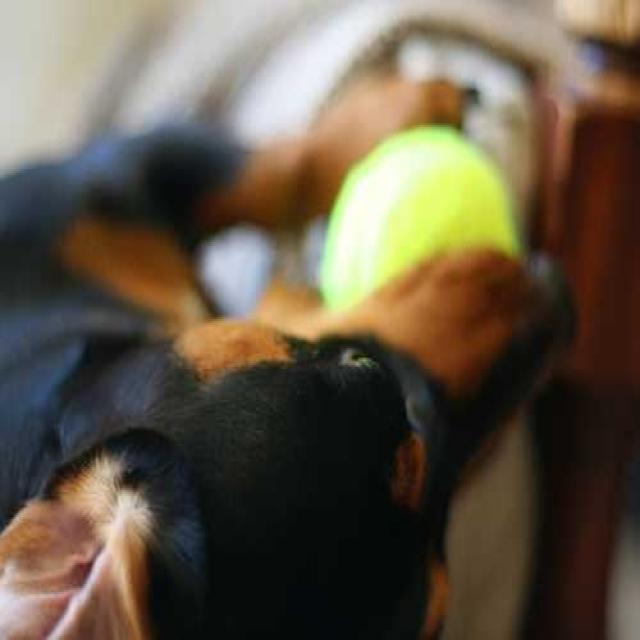Tennis_Ball: (324, 126, 521, 316)
